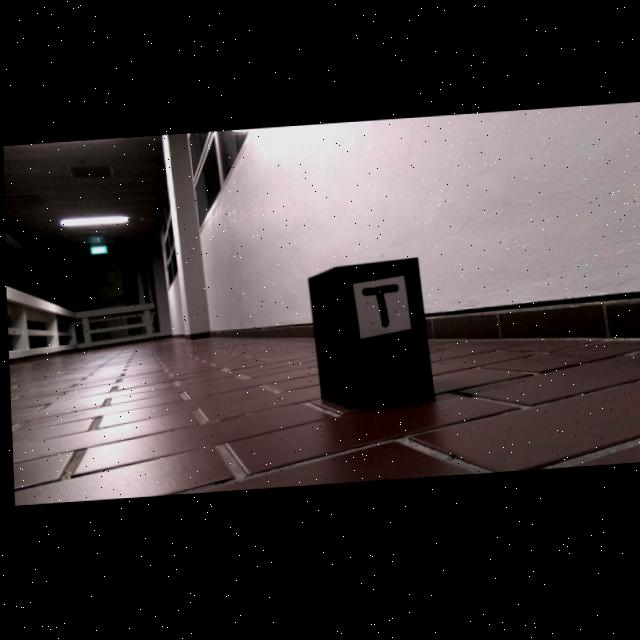T: (361, 289, 398, 331)
